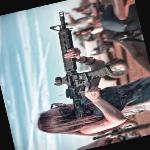Senapan: (49, 10, 118, 120)
